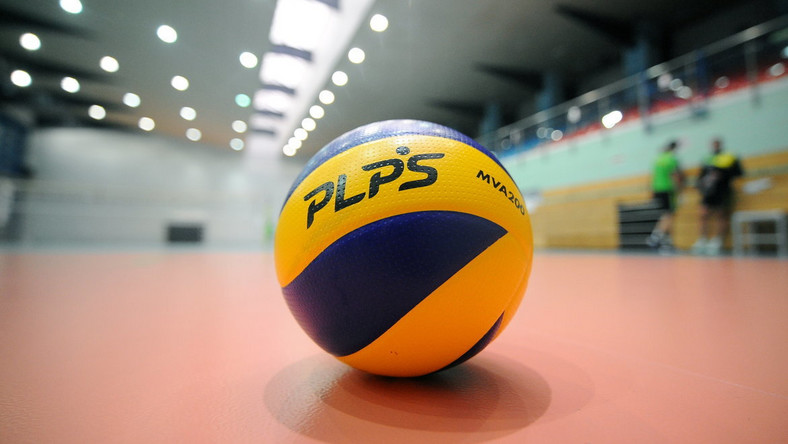ball: (274, 118, 534, 377)
